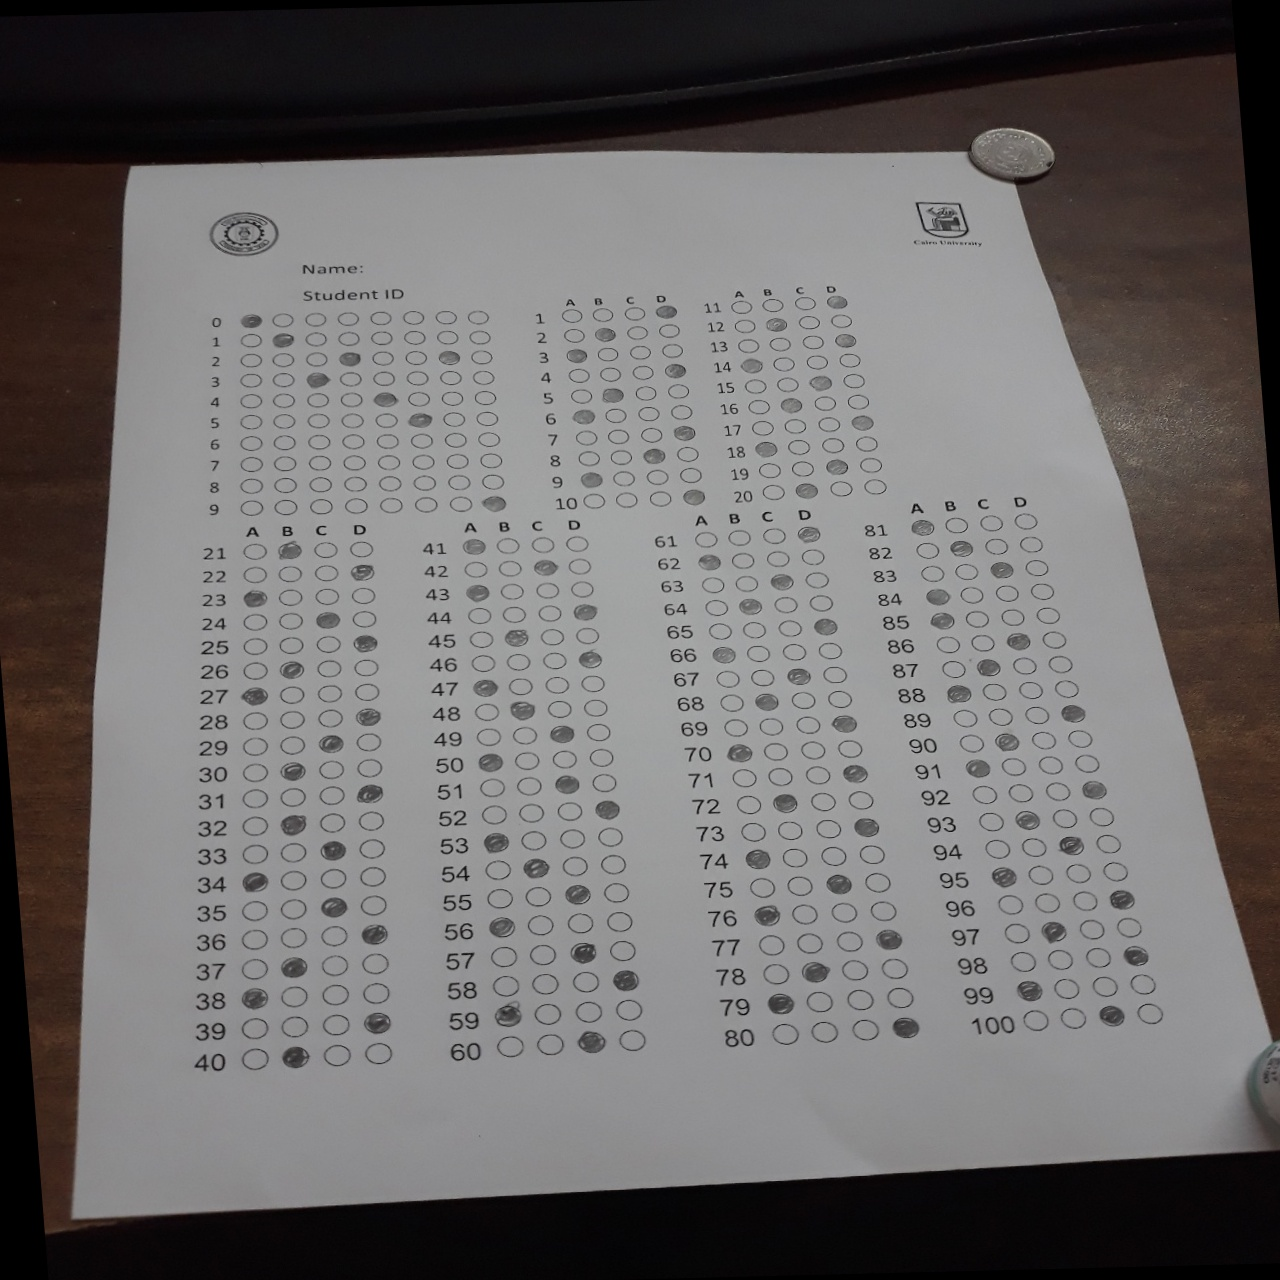not-c: (316, 1013, 353, 1039), (238, 760, 273, 785), (277, 1013, 313, 1037), (319, 983, 355, 1008), (533, 1032, 568, 1056), (234, 1047, 270, 1071), (275, 986, 311, 1010), (358, 951, 393, 975), (315, 924, 350, 948), (275, 926, 311, 951), (350, 728, 386, 753), (273, 631, 308, 655), (274, 605, 309, 629), (1046, 944, 1077, 971), (1058, 1005, 1090, 1032), (316, 1044, 353, 1068), (234, 955, 271, 979), (839, 956, 872, 982), (790, 712, 823, 737), (720, 712, 753, 737), (813, 842, 847, 866), (239, 659, 273, 683), (527, 1001, 563, 1024), (571, 1000, 606, 1023), (360, 1042, 395, 1065), (358, 982, 393, 1006), (238, 1017, 273, 1041), (316, 955, 352, 979), (236, 928, 271, 952), (352, 863, 387, 886), (237, 842, 272, 865), (239, 634, 274, 658), (311, 633, 346, 656), (1087, 971, 1118, 996), (844, 788, 876, 813), (796, 930, 828, 955), (744, 871, 776, 897), (862, 869, 894, 893), (855, 842, 887, 866), (843, 987, 876, 1012), (753, 932, 785, 956), (788, 900, 821, 925), (772, 818, 805, 843), (806, 790, 839, 815), (727, 765, 760, 790), (761, 738, 794, 763), (612, 996, 646, 1020), (617, 1028, 651, 1051), (234, 899, 268, 922), (275, 898, 309, 921), (356, 894, 390, 918), (314, 865, 348, 888), (275, 839, 309, 863), (311, 811, 345, 835), (239, 815, 273, 838), (274, 731, 308, 755), (272, 708, 306, 731), (237, 538, 271, 561), (275, 585, 309, 608), (1083, 944, 1114, 969), (1135, 998, 1165, 1023), (1020, 1005, 1050, 1030), (275, 867, 311, 890), (353, 806, 388, 829), (274, 683, 309, 706), (312, 682, 347, 704), (346, 586, 381, 608), (272, 560, 307, 583), (239, 610, 274, 632), (1007, 948, 1039, 973), (1129, 971, 1160, 995), (878, 954, 910, 979), (865, 898, 897, 922), (835, 735, 866, 760), (805, 1017, 837, 1042), (768, 1014, 799, 1039), (886, 987, 918, 1012), (758, 962, 790, 987), (835, 930, 866, 954), (826, 898, 858, 922), (783, 873, 815, 898), (810, 813, 842, 838), (797, 762, 829, 787), (762, 764, 794, 789), (796, 735, 828, 760), (755, 712, 787, 736), (847, 1016, 880, 1040), (802, 990, 835, 1014), (779, 846, 812, 870), (731, 790, 764, 813), (354, 835, 387, 858), (350, 756, 383, 779), (238, 564, 271, 587), (241, 731, 270, 758), (275, 787, 309, 809), (313, 758, 347, 781), (349, 682, 383, 704), (349, 656, 383, 679), (312, 656, 346, 679), (346, 607, 380, 629), (343, 535, 377, 557), (522, 881, 551, 907), (1050, 975, 1081, 1000), (489, 972, 519, 996), (738, 819, 770, 843), (306, 583, 341, 604), (237, 787, 270, 809), (316, 784, 349, 806), (307, 536, 340, 558), (1027, 862, 1056, 886), (1032, 891, 1061, 915), (306, 561, 340, 583), (999, 753, 1029, 776), (1005, 779, 1035, 803), (593, 825, 625, 847), (519, 828, 551, 850), (564, 913, 595, 935), (645, 488, 676, 510), (1078, 915, 1107, 940), (1114, 915, 1142, 940), (595, 853, 628, 874), (527, 942, 556, 967), (526, 910, 554, 934), (482, 887, 515, 908), (1027, 727, 1056, 750), (955, 729, 985, 753), (974, 809, 1003, 832), (1050, 806, 1080, 830), (1085, 804, 1115, 828), (1019, 835, 1048, 858), (1070, 888, 1099, 912), (1003, 919, 1033, 942), (1099, 860, 1130, 883), (599, 881, 629, 904), (602, 910, 633, 932), (658, 340, 688, 362), (813, 640, 845, 661), (728, 573, 760, 594), (563, 554, 594, 576), (558, 828, 590, 849), (558, 853, 590, 874), (605, 939, 636, 960), (570, 972, 601, 993), (489, 945, 520, 966), (493, 1035, 525, 1056), (855, 454, 886, 475), (611, 490, 642, 511), (672, 445, 703, 467), (1037, 753, 1065, 776), (983, 836, 1012, 859), (996, 892, 1024, 915), (515, 803, 547, 823), (1020, 703, 1049, 726), (1064, 726, 1094, 748), (1071, 753, 1101, 775), (1042, 779, 1071, 802), (971, 783, 1000, 805), (1063, 860, 1092, 883), (491, 532, 520, 554), (785, 689, 816, 710), (818, 663, 849, 685), (806, 593, 837, 614), (803, 568, 833, 590), (799, 545, 830, 566), (758, 522, 789, 543), (724, 550, 755, 571), (749, 666, 779, 687), (699, 576, 729, 597), (772, 618, 803, 639), (565, 581, 595, 602), (572, 625, 602, 646), (529, 533, 559, 554), (493, 558, 524, 579), (499, 580, 530, 601), (532, 579, 563, 600), (513, 776, 544, 797), (478, 775, 509, 796), (481, 860, 511, 881), (527, 974, 558, 995), (757, 481, 788, 502), (576, 492, 606, 513), (639, 464, 669, 485), (606, 467, 636, 488), (576, 447, 606, 468), (610, 445, 640, 467), (667, 399, 697, 420), (662, 380, 693, 401), (654, 316, 685, 338), (823, 689, 855, 709), (588, 772, 620, 792), (315, 707, 347, 727), (999, 607, 1027, 629), (1092, 833, 1121, 856), (764, 549, 794, 570), (688, 527, 717, 549), (712, 667, 741, 688), (772, 594, 802, 615), (860, 475, 890, 496), (716, 692, 747, 712), (707, 622, 737, 642), (741, 621, 771, 641), (742, 642, 772, 662), (778, 642, 809, 662), (462, 561, 492, 581), (509, 724, 539, 744), (481, 803, 511, 823), (554, 801, 585, 821), (673, 464, 703, 484), (241, 709, 268, 731), (465, 306, 492, 328), (934, 633, 962, 654), (962, 608, 990, 629), (1034, 604, 1062, 625), (949, 707, 978, 728), (724, 527, 753, 549), (560, 533, 588, 554), (594, 343, 622, 365), (633, 382, 661, 403), (703, 597, 733, 617), (512, 748, 542, 768), (549, 749, 578, 769), (826, 481, 856, 501), (366, 349, 395, 369), (298, 329, 327, 349), (306, 433, 335, 452), (306, 452, 335, 472), (372, 451, 401, 471), (586, 747, 617, 765), (304, 392, 334, 410), (956, 587, 983, 608), (1040, 629, 1067, 651), (967, 636, 994, 658), (1012, 654, 1039, 675), (1046, 653, 1073, 674), (1051, 678, 1078, 699), (588, 304, 615, 325), (624, 321, 651, 342), (627, 343, 654, 365), (566, 363, 593, 384), (568, 384, 595, 406), (1022, 557, 1050, 577), (1026, 583, 1054, 602), (938, 659, 966, 679), (1017, 679, 1046, 699), (536, 602, 564, 622), (472, 724, 501, 744), (636, 423, 665, 443), (447, 493, 475, 513), (437, 365, 465, 384), (268, 350, 297, 370), (304, 348, 332, 368), (238, 411, 266, 431), (306, 410, 334, 430), (407, 431, 435, 451), (336, 431, 365, 451), (411, 495, 440, 515), (505, 678, 535, 696), (542, 674, 571, 693), (546, 699, 576, 717), (583, 722, 612, 741), (443, 451, 472, 470), (399, 350, 428, 369), (237, 331, 266, 349), (331, 327, 360, 346), (402, 387, 431, 406), (267, 392, 297, 410), (304, 474, 333, 492), (341, 496, 370, 515), (406, 451, 435, 470), (573, 429, 599, 450), (990, 583, 1017, 602), (979, 681, 1006, 701), (987, 706, 1014, 726), (559, 306, 586, 326), (561, 325, 588, 345), (599, 363, 626, 383), (631, 365, 658, 384), (602, 404, 629, 424), (635, 403, 662, 423), (606, 425, 633, 445), (306, 497, 336, 515), (468, 653, 496, 672), (579, 673, 607, 692), (469, 702, 497, 721), (821, 435, 849, 454), (447, 472, 475, 491), (438, 386, 467, 404), (270, 370, 298, 389), (338, 370, 366, 389), (368, 368, 396, 387), (238, 349, 266, 368), (234, 388, 263, 407), (240, 434, 268, 452), (236, 452, 264, 471), (239, 475, 267, 493), (268, 431, 297, 450), (336, 392, 365, 410), (339, 409, 367, 428), (374, 411, 402, 430), (370, 430, 399, 449), (340, 472, 368, 491), (376, 475, 404, 493), (411, 472, 440, 491), (377, 496, 406, 515), (840, 395, 870, 413), (809, 394, 838, 411), (236, 369, 265, 387), (237, 498, 266, 516), (270, 411, 299, 429), (506, 651, 532, 670), (498, 604, 525, 622), (467, 629, 493, 648), (733, 318, 760, 336), (775, 375, 802, 394), (839, 372, 866, 390), (816, 416, 843, 435), (581, 697, 610, 715), (828, 313, 856, 331), (765, 353, 794, 370), (783, 437, 811, 455), (479, 472, 508, 490), (476, 449, 504, 467), (438, 428, 467, 445), (438, 410, 467, 428), (433, 326, 461, 343), (400, 369, 428, 387), (399, 329, 427, 347), (365, 331, 393, 348), (272, 499, 300, 517), (270, 476, 298, 493), (268, 452, 297, 470), (919, 563, 944, 583), (1012, 511, 1037, 530), (537, 628, 563, 647), (301, 309, 327, 328), (267, 309, 293, 328), (790, 294, 819, 311), (791, 313, 821, 329), (779, 418, 806, 436), (853, 436, 880, 454), (399, 306, 425, 324), (467, 328, 493, 346), (1017, 535, 1042, 553), (976, 513, 1001, 532), (942, 515, 967, 533), (464, 608, 492, 625), (745, 399, 770, 417), (745, 377, 770, 396), (756, 297, 784, 313), (798, 333, 826, 349), (799, 353, 828, 369), (468, 350, 496, 367), (915, 542, 941, 559), (540, 649, 566, 667), (789, 461, 815, 478), (758, 459, 784, 477), (431, 309, 457, 327), (332, 308, 358, 326), (469, 368, 495, 386), (471, 389, 498, 406), (474, 409, 501, 425), (954, 563, 978, 581), (983, 537, 1008, 554), (749, 418, 774, 436), (736, 335, 761, 353), (765, 335, 794, 350), (833, 352, 862, 367), (366, 309, 392, 326), (475, 429, 501, 445), (622, 306, 647, 322), (729, 299, 756, 313)
taken-c: (610, 969, 642, 993), (1039, 919, 1069, 944), (238, 985, 268, 1009), (355, 922, 386, 947), (350, 704, 381, 729), (360, 1012, 392, 1035), (275, 656, 307, 680), (316, 731, 346, 756), (280, 1047, 311, 1070), (279, 955, 309, 979), (315, 838, 346, 862), (316, 896, 348, 918), (241, 870, 271, 893), (354, 781, 383, 804), (267, 328, 297, 352), (798, 961, 829, 983), (753, 904, 783, 926), (824, 873, 855, 896), (743, 846, 774, 869), (279, 812, 309, 835), (241, 587, 272, 610), (1014, 980, 1046, 1001), (312, 608, 343, 629), (304, 368, 332, 392), (278, 760, 307, 782), (237, 309, 266, 332), (1096, 1003, 1126, 1024), (890, 1017, 920, 1039), (769, 792, 799, 813), (491, 1003, 522, 1024), (347, 561, 377, 583), (678, 486, 708, 508), (593, 798, 621, 821), (568, 941, 597, 964), (241, 683, 270, 706), (989, 867, 1019, 888), (1104, 888, 1133, 910), (1121, 946, 1150, 967), (874, 928, 904, 949), (852, 816, 881, 837), (764, 571, 794, 592), (349, 633, 379, 654), (829, 714, 859, 734), (707, 644, 737, 663), (809, 615, 839, 635), (522, 856, 549, 878), (563, 883, 590, 905), (578, 1032, 605, 1054), (765, 993, 794, 1014), (840, 762, 869, 783), (751, 690, 779, 712), (486, 915, 515, 937), (924, 585, 953, 605), (724, 742, 754, 762), (734, 594, 763, 614), (692, 550, 721, 570), (570, 602, 599, 622), (461, 583, 490, 602), (552, 774, 581, 794), (483, 832, 509, 855), (926, 610, 954, 629), (974, 658, 1002, 678), (992, 731, 1020, 751), (531, 557, 559, 577), (784, 667, 813, 686), (791, 523, 821, 542), (474, 753, 503, 771), (946, 685, 973, 704), (459, 536, 486, 556), (907, 518, 935, 537), (945, 539, 973, 558), (1005, 633, 1033, 652), (1057, 836, 1085, 855), (574, 651, 602, 669), (470, 678, 498, 696), (590, 325, 618, 343), (642, 447, 670, 465), (508, 701, 537, 719), (546, 726, 576, 743), (661, 358, 690, 375), (964, 760, 990, 778), (1081, 779, 1108, 798), (372, 392, 399, 410), (652, 302, 679, 321), (846, 414, 873, 433), (987, 561, 1015, 579), (501, 629, 529, 647), (335, 349, 363, 367), (403, 411, 431, 429), (481, 493, 509, 511), (570, 407, 598, 424), (563, 346, 591, 363), (738, 358, 767, 375), (777, 397, 805, 415), (808, 374, 836, 392), (819, 457, 847, 475), (823, 292, 851, 309), (1058, 704, 1085, 722), (1012, 811, 1039, 829), (275, 542, 302, 559), (579, 470, 606, 488), (753, 440, 779, 457), (792, 483, 819, 501), (433, 349, 461, 366), (600, 384, 628, 401), (670, 425, 699, 442), (763, 316, 791, 333), (787, 463, 813, 479), (831, 331, 858, 347)
